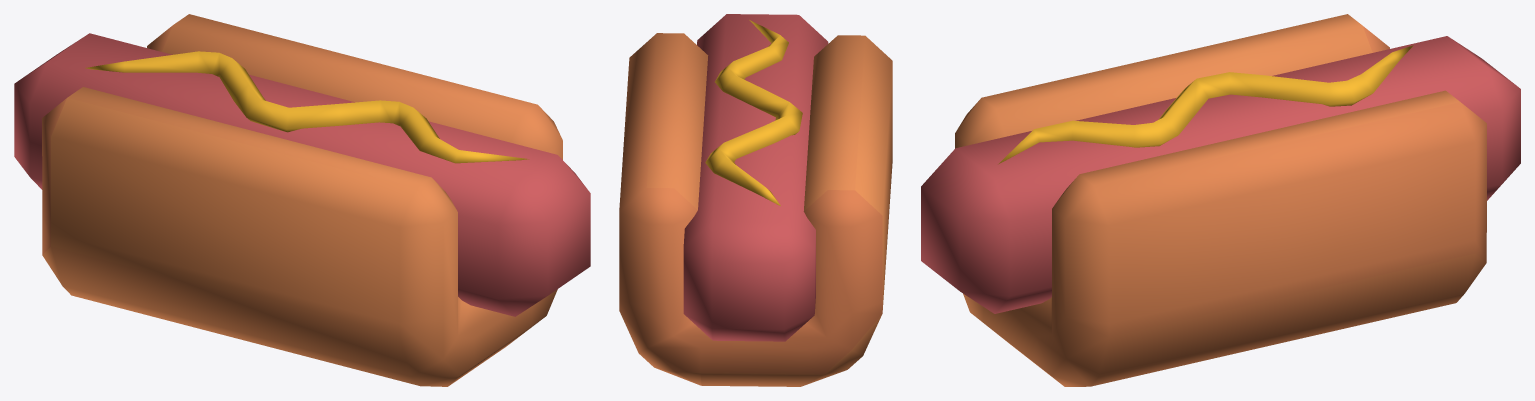
The model's file is Hotdog.fbx.
3 views of the same model, side by side, from view 1: azimuth 30°, elevation 25°; view 2: azimuth 150°, elevation 25°; view 3: azimuth 270°, elevation 25° (orthographic). The views are drawn at different scales.
Visible parts, largest first — view 1: HotDog; view 2: HotDog; view 3: HotDog.
Boxes of the visible parts, left/top/right/bottom form: HotDog: left=14, top=14, right=590, bottom=386; HotDog: left=619, top=14, right=892, bottom=386; HotDog: left=921, top=14, right=1520, bottom=386.
Bounding box in the file's own units: 0.2142 × 0.2784 × 0.1192.
